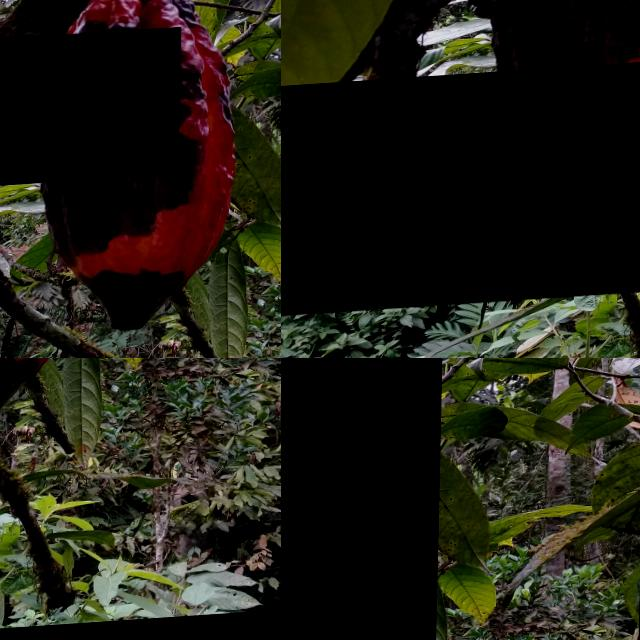Fitoftora: (281, 358, 443, 640)
Monilia: (281, 59, 640, 318), (0, 32, 181, 199)
